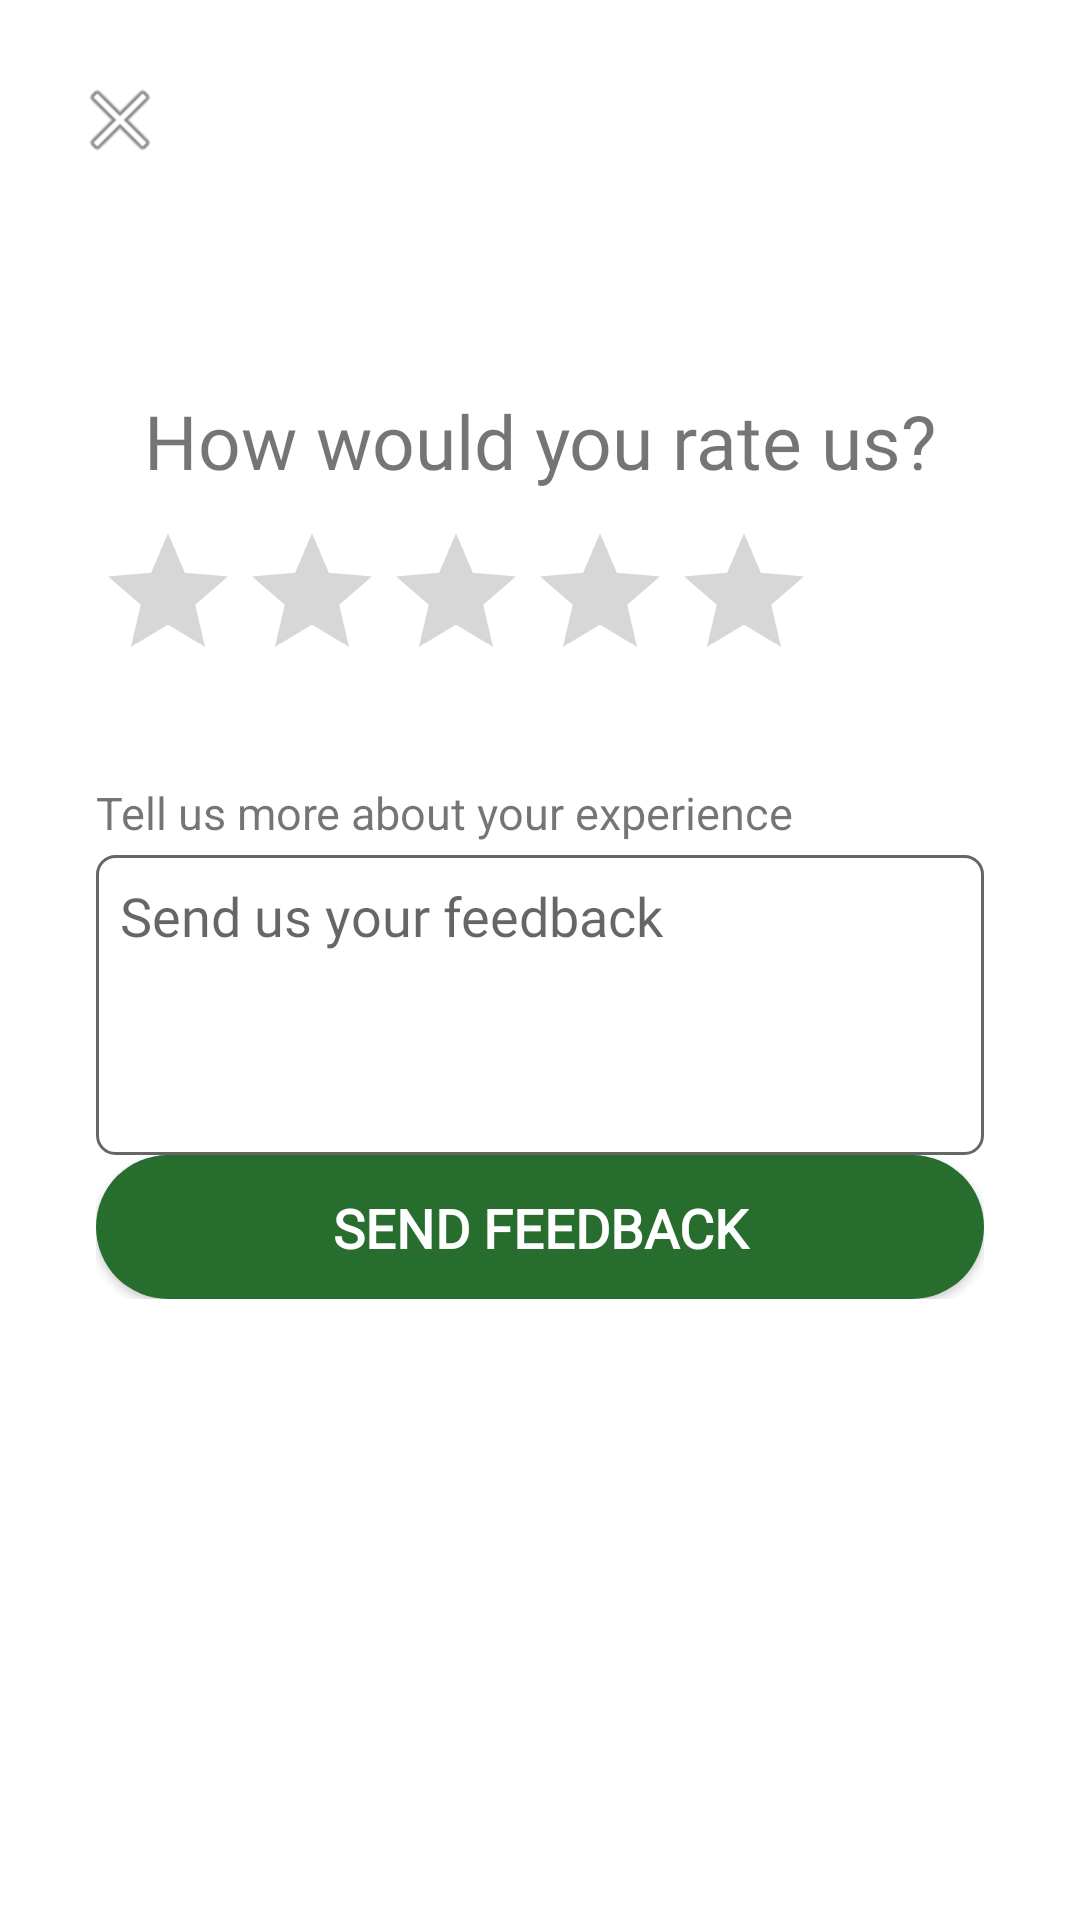

Point at icon controls on the screen. Image size 1080 x 1920, points as (x,y).
Close: (120,120)
